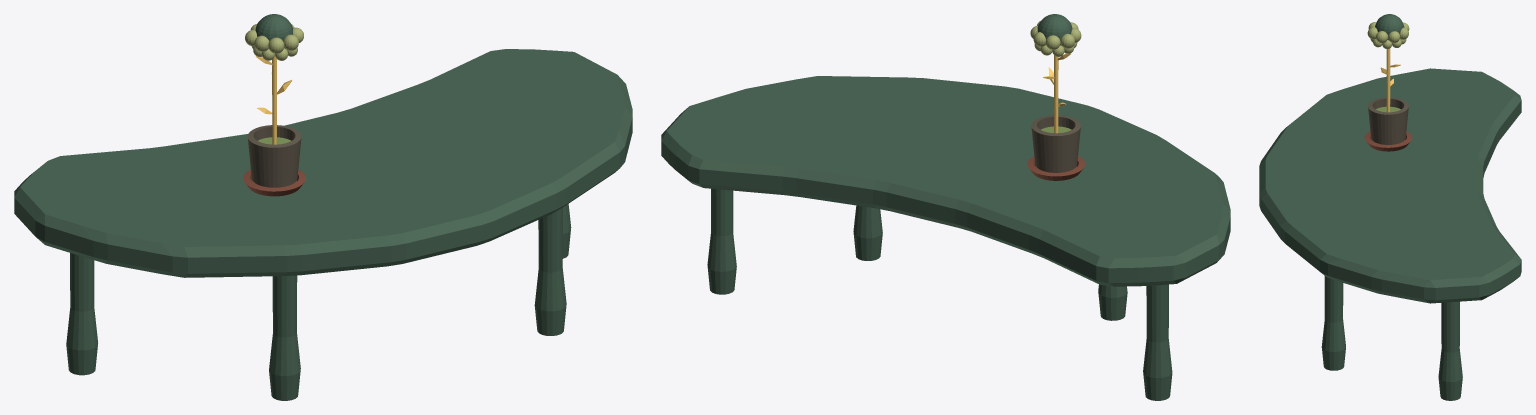
The model's file is Livingroom_Coffeetable1.fbx.
3 renders of one model, left to right at view 1: azimuth 30°, elevation 25°; view 2: azimuth 150°, elevation 25°; view 3: azimuth 270°, elevation 25°, orthographic. The views are drawn at different scales.
Visible parts, largest first — view 1: Livingroom_Coffeetable1.001, Livingroom_Coffeetable1.003, Livingroom_Coffeetable1, Livingroom_Coffeetable1.002, Livingroom_Coffeetable1.005; view 2: Livingroom_Coffeetable1.001, Livingroom_Coffeetable1.003, Livingroom_Coffeetable1, Livingroom_Coffeetable1.002, Livingroom_Coffeetable1.005; view 3: Livingroom_Coffeetable1.001, Livingroom_Coffeetable1.003, Livingroom_Coffeetable1, Livingroom_Coffeetable1.002, Livingroom_Coffeetable1.005.
Boxes of the visible parts, box(x1,y1,x2,y2) form: Livingroom_Coffeetable1.001: box(14, 14, 632, 400); Livingroom_Coffeetable1.003: box(247, 125, 301, 187); Livingroom_Coffeetable1: box(245, 24, 303, 60); Livingroom_Coffeetable1.002: box(243, 169, 305, 196); Livingroom_Coffeetable1.005: box(256, 56, 292, 144); Livingroom_Coffeetable1.001: box(661, 14, 1230, 400); Livingroom_Coffeetable1.003: box(1031, 115, 1080, 172); Livingroom_Coffeetable1: box(1030, 21, 1081, 56); Livingroom_Coffeetable1.002: box(1027, 156, 1085, 180); Livingroom_Coffeetable1.005: box(1043, 53, 1071, 133); Livingroom_Coffeetable1.001: box(1259, 14, 1521, 400); Livingroom_Coffeetable1.003: box(1368, 97, 1408, 144); Livingroom_Coffeetable1: box(1367, 22, 1409, 49); Livingroom_Coffeetable1.002: box(1364, 131, 1412, 151); Livingroom_Coffeetable1.005: box(1380, 48, 1400, 112).
Bounding box in the file's own units: 78.93 × 87.18 × 154.
